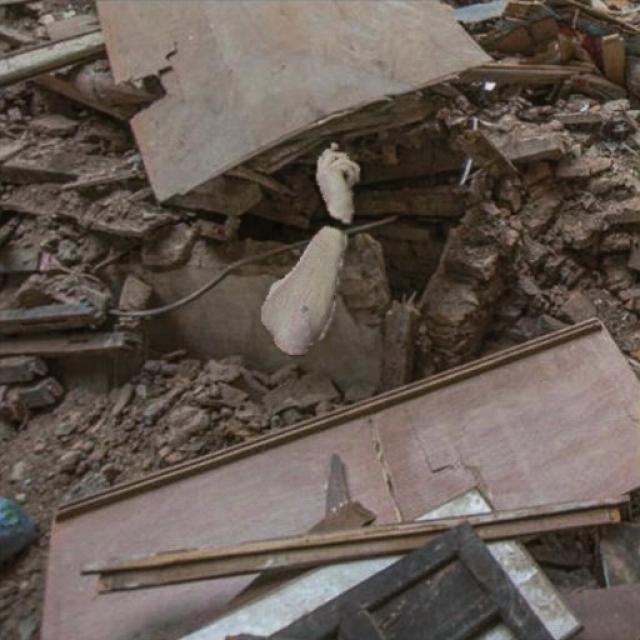Person in Rubble: (261, 107, 449, 355)
